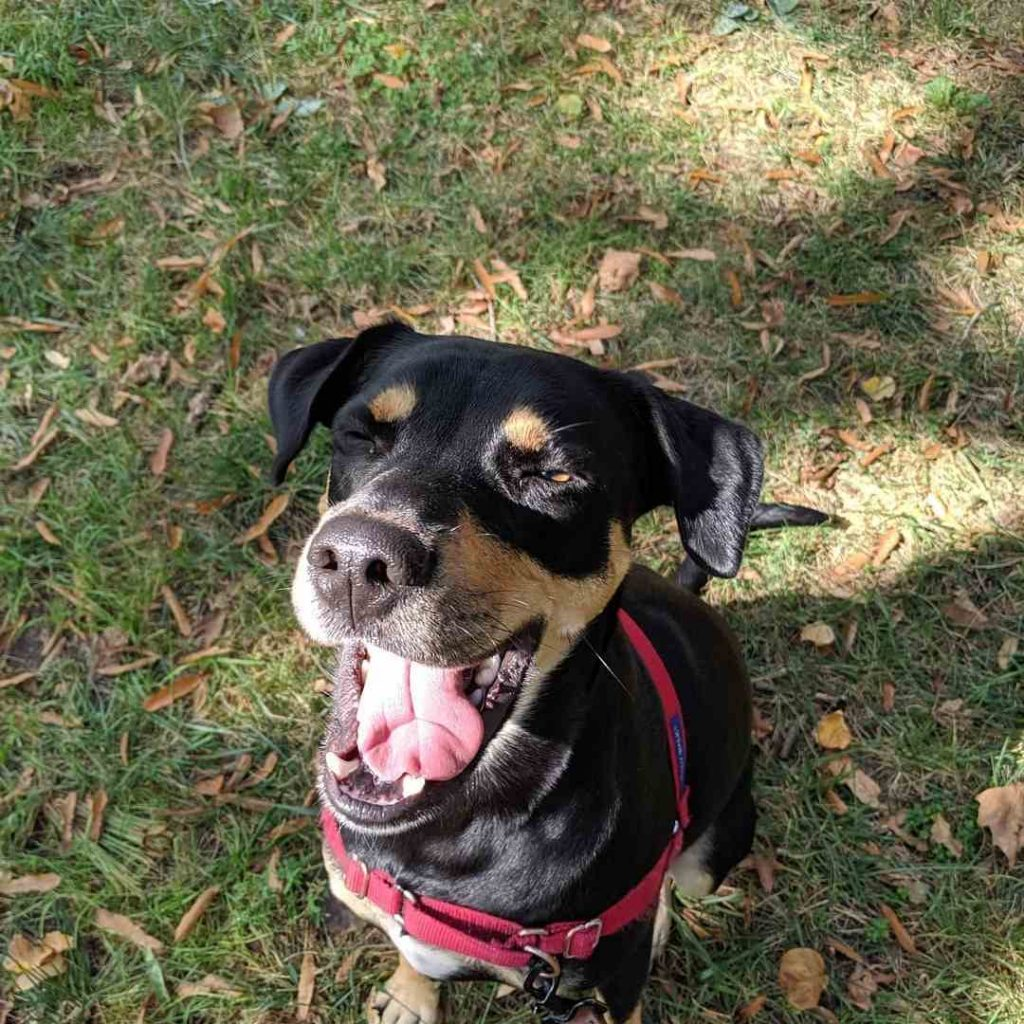dog: (244, 323, 780, 1024)
